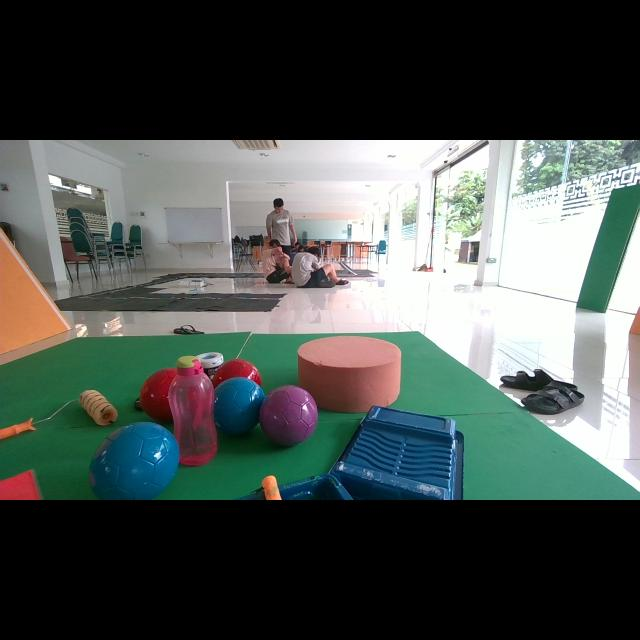B: (90, 422, 180, 499), (214, 378, 265, 435)
P: (259, 385, 318, 446)
R: (139, 368, 178, 422), (212, 359, 262, 387)
